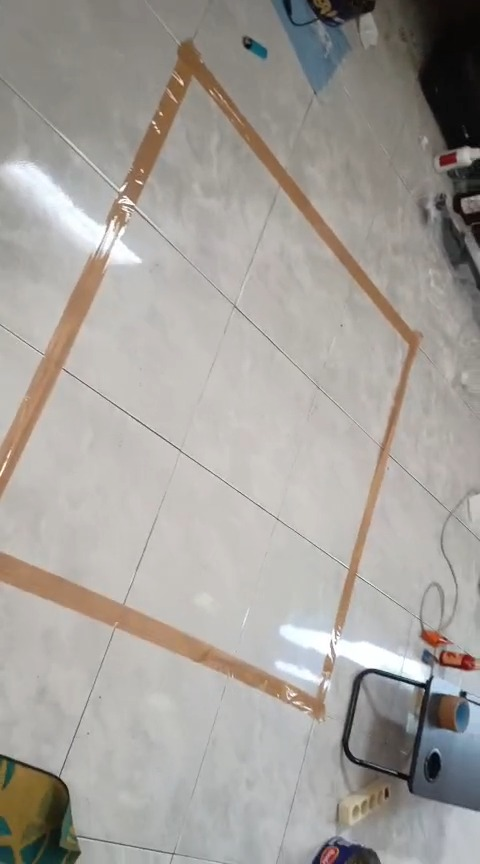floor marking: (0, 41, 420, 718)
